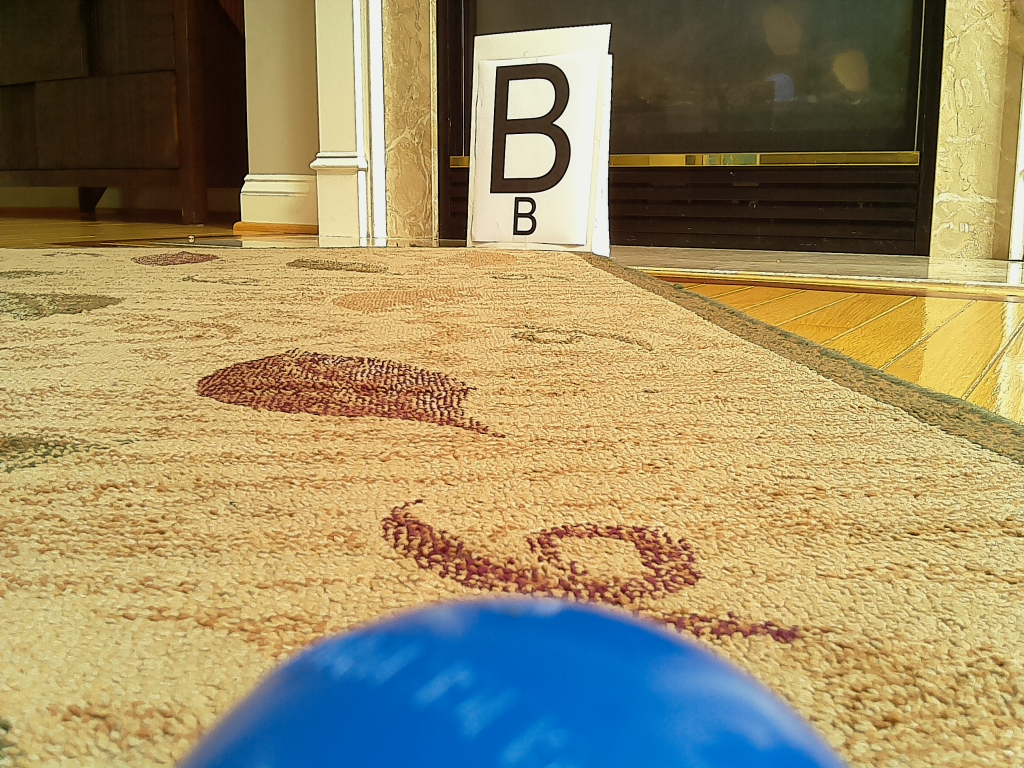letter: (487, 64, 571, 192)
